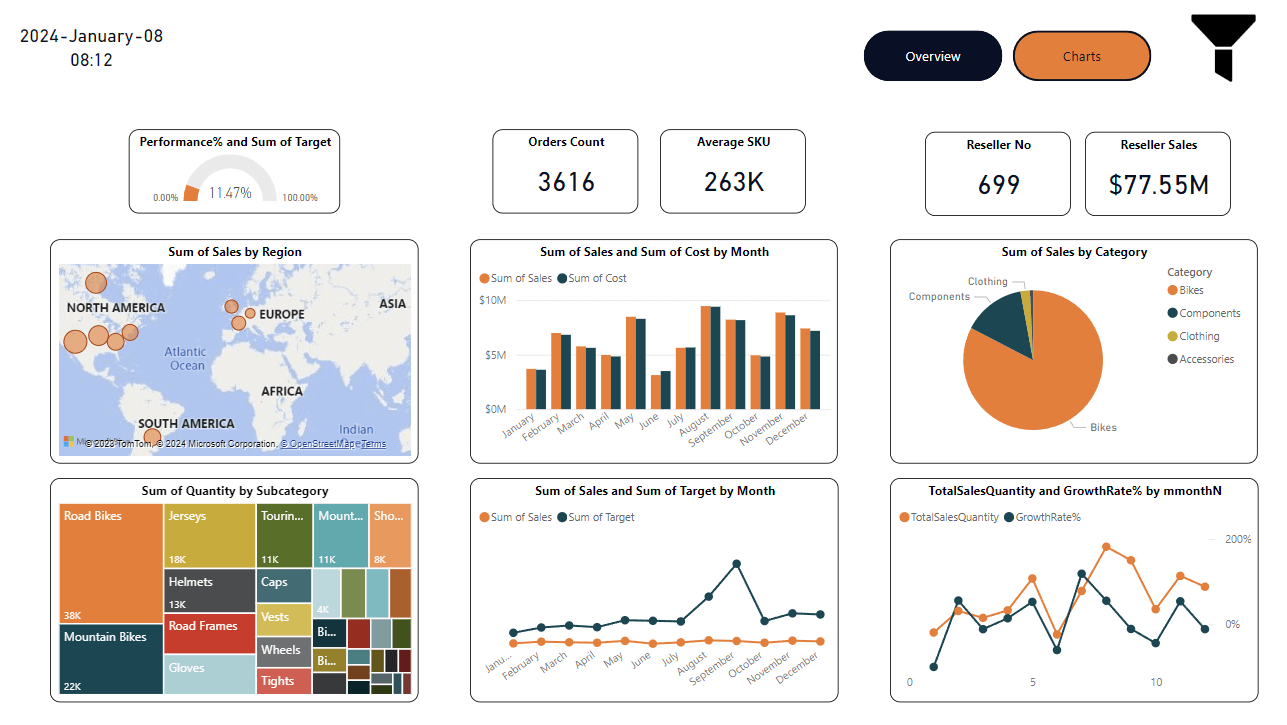

What the dashboard file says about the page in this screenshot:
{"tool":"powerbi","page":{"name":"Overview","canvas":[1280,720],"ordinal":0},"visuals":[{"type":"card","fields":{"Values":["Product.time"]},"box":[0,8.6,180.9,58.7],"z":0,"group":"g1"},{"type":"lineChart","fields":{"Y":["Sum(Sales.Sales)","Sum(Targets.Target)"],"Category":["DimDate.Miladi.Variation.Date Hierarchy.Month"]},"box":[464.5,474.3,364.3,221.3],"z":0},{"type":"card","fields":{"Values":["Product.Time"]},"box":[0,31.8,180.9,58.7],"z":1000,"group":"g1"},{"type":"map","fields":{"Category":["Region.Region"],"Size":["Sum(Sales.Sales)"]},"box":[49.1,238.1,364.3,221.3],"z":1000},{"type":"treemap","fields":{"Group":["Product.Subcategory"],"Values":["Sum(Sales.Quantity)"]},"box":[48.9,474.3,364.3,221.3],"z":2000},{"type":"pieChart","fields":{"Y":["Sum(Sales.Sales)"],"Category":["Product.Category"]},"box":[879.1,238.4,363.1,221.3],"z":3000},{"type":"clusteredColumnChart","fields":{"Y":["Sum(Sales.Sales)","Sum(Sales.Cost)"],"Category":["DimDate.Miladi.Variation.Date Hierarchy.Month"]},"box":[464.7,238.1,363.1,221.3],"z":4000},{"type":"gauge","fields":{"TargetValue":["Sum(Targets.Target)"],"Y":["Measurments.Performance%"]},"box":[127.1,129.6,209,83.1],"z":5000},{"type":"group","id":"g1","title":"Group 1","box":[0,8.6,180.9,81.9],"z":6000},{"type":"image","box":[1144.2,8.6,127.1,81.9],"z":7000},{"type":"lineChart","fields":{"Y":["Measurments.TotalSalesQuantity"],"Y2":["Measurments.GrowthRate%"],"Category":["DimDate.mmonthN"]},"box":[878.9,474.3,364.3,221.3],"z":8000},{"type":"pageNavigator","box":[853.2,31.8,284.8,50.1],"z":11000},{"type":"card","title":"Orders Count","fields":{"Values":["Count(Sales.SalesOrderNumber)"]},"box":[486.8,129.1,144.2,83.1],"z":12000},{"type":"card","title":"Average SKU","fields":{"Values":["Measurments.AverageSKU"]},"box":[651.8,129.1,144.2,83.1],"z":13000},{"type":"card","title":"Reseller No","fields":{"Values":["Count(Reseller.Reseller)"]},"box":[913.1,131.5,144.2,83.1],"z":14000},{"type":"card","title":"Reseller Sales","fields":{"Values":["Measurments.ResellerTotal"]},"box":[1072.1,131.5,144.2,83.1],"z":15000}]}

Visuals, with their boxes in screenshot pixels (x1, y1, x2, y2), scaled from the page's 1280x720 canvas onto the 1287x725 screenshot:
card - Product.time: l=0, t=9, r=182, b=68
lineChart - Sum(Sales.Sales) x Sum(Targets.Target): l=467, t=478, r=833, b=700
card - Product.Time: l=0, t=32, r=182, b=91
map - Region.Region x Sum(Sales.Sales): l=49, t=240, r=416, b=463
treemap - Product.Subcategory x Sum(Sales.Quantity): l=49, t=478, r=415, b=700
pieChart - Sum(Sales.Sales) x Product.Category: l=884, t=240, r=1249, b=463
clusteredColumnChart - Sum(Sales.Sales) x Sum(Sales.Cost): l=467, t=240, r=832, b=463
gauge - Sum(Targets.Target) x Measurments.Performance%: l=128, t=130, r=338, b=214
"Group 1" group: l=0, t=9, r=182, b=91
image: l=1150, t=9, r=1278, b=91
lineChart - Measurments.TotalSalesQuantity x Measurments.GrowthRate%: l=884, t=478, r=1250, b=700
pageNavigator: l=858, t=32, r=1144, b=82
"Orders Count" card: l=489, t=130, r=634, b=214
"Average SKU" card: l=655, t=130, r=800, b=214
"Reseller No" card: l=918, t=132, r=1063, b=216
"Reseller Sales" card: l=1078, t=132, r=1223, b=216
